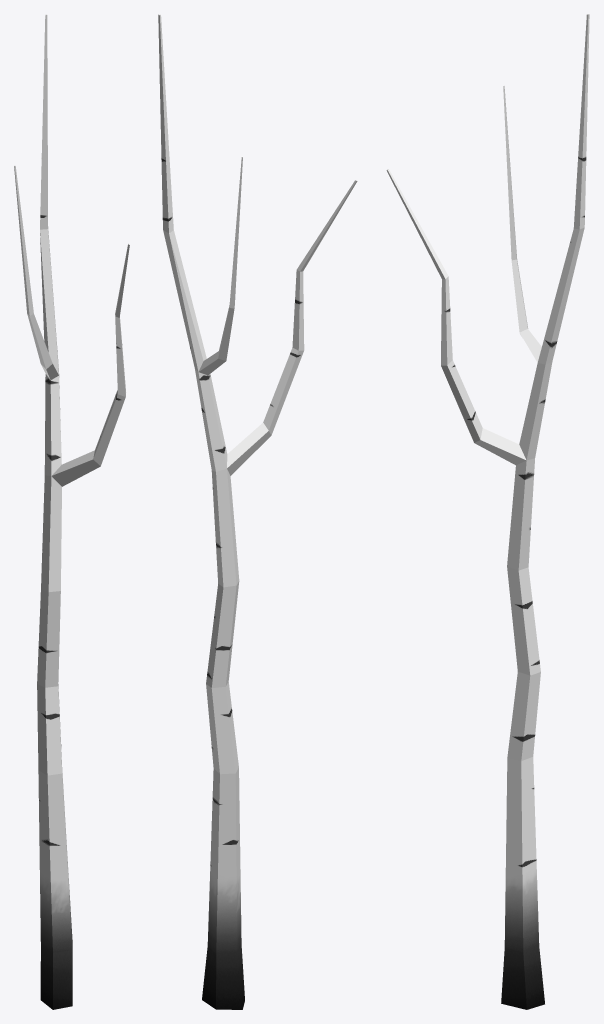
Rendered from Birch_Tree_NoLeaves_l_02_LOD.fbx.
The picture shows the model from 3 angles, left to right: view 1: azimuth 90°, elevation 25°; view 2: azimuth 150°, elevation 25°; view 3: azimuth 330°, elevation 25°; orthographic projection. The views are drawn at different scales.
Parts seen in each view (by area): view 1: Birch_Tree_NoLeaves_l_02_LOD0; view 2: Birch_Tree_NoLeaves_l_02_LOD0; view 3: Birch_Tree_NoLeaves_l_02_LOD0.
Boxes of the visible parts, x1,y1,x2,y2 form: Birch_Tree_NoLeaves_l_02_LOD0: (14,14,129,1009); Birch_Tree_NoLeaves_l_02_LOD0: (158,14,357,1009); Birch_Tree_NoLeaves_l_02_LOD0: (386,14,589,1009).
Size of what is drawn, in the model's own units: 313 by 1874 by 206.
